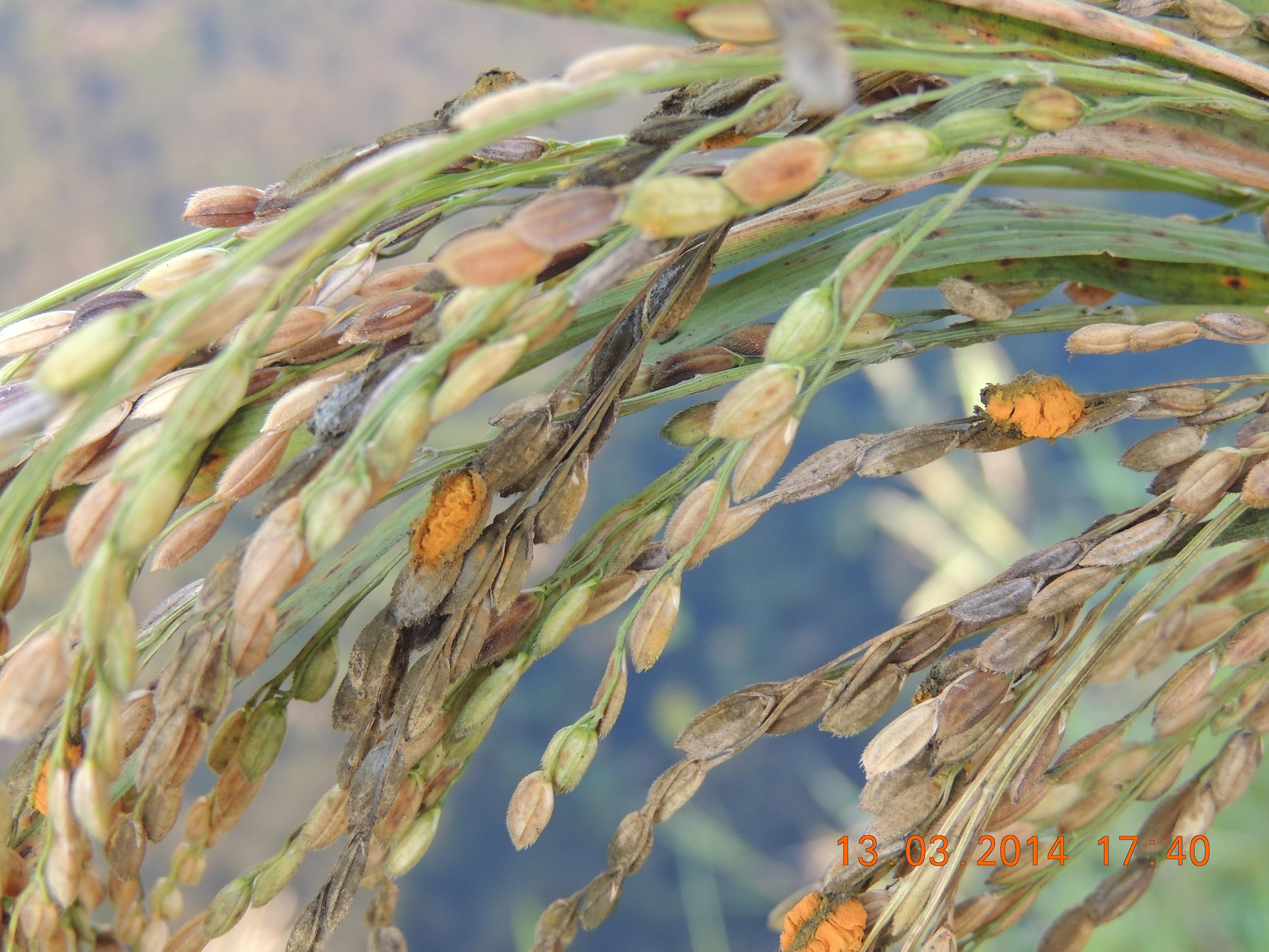False Smut: (416, 452, 485, 562), (983, 366, 1088, 438), (777, 887, 870, 952)
